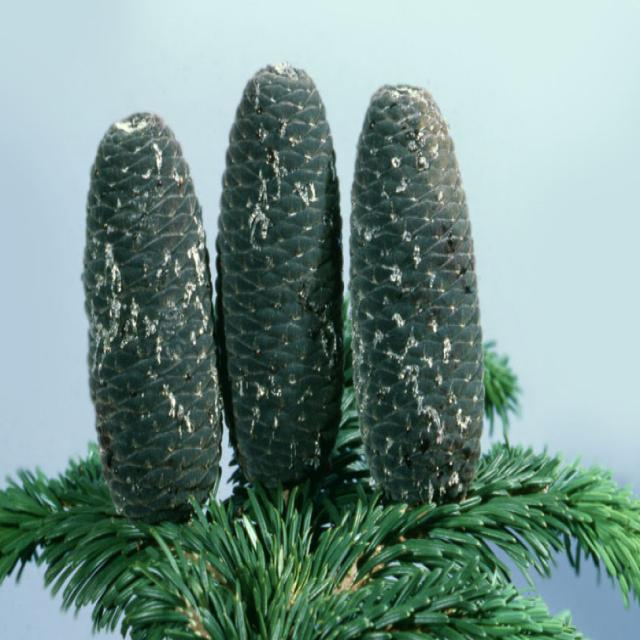Abies: (29, 63, 598, 640)
